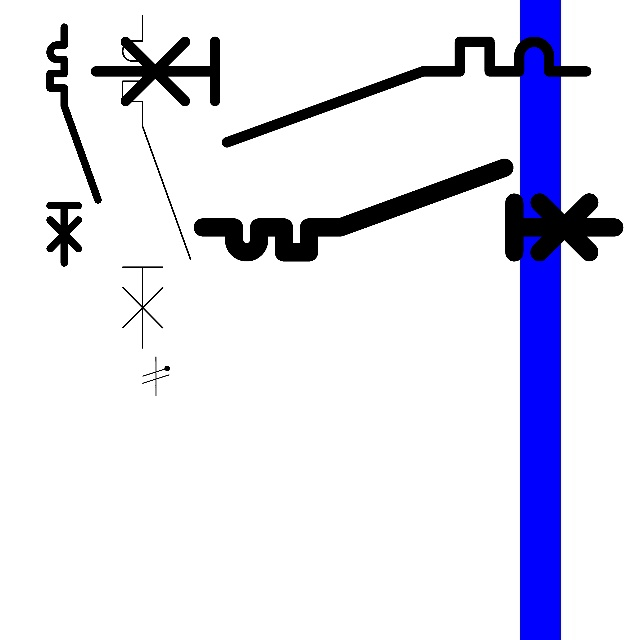interruptor_termomagnetico: (83, 29, 599, 155), (192, 157, 625, 263), (114, 7, 199, 356), (44, 21, 104, 268)
